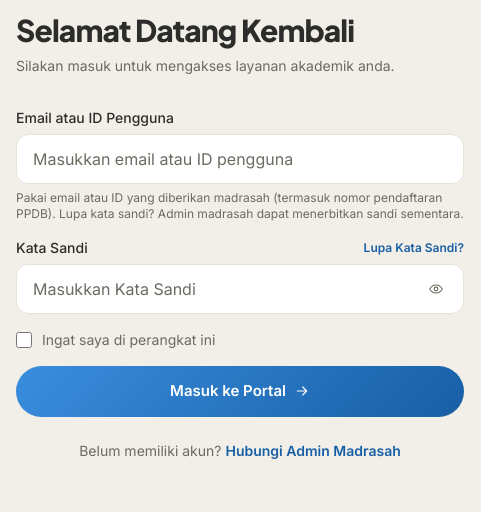
Test: masuk PPDB lewat gerbang yang sama › pesan login biasa yang ditampilkan bila keduanya menolak
Type "1234567890" into the field labelled "Email atau ID Pengguna".
click(240, 159); type("1234567890")  # box [16,134,464,184]
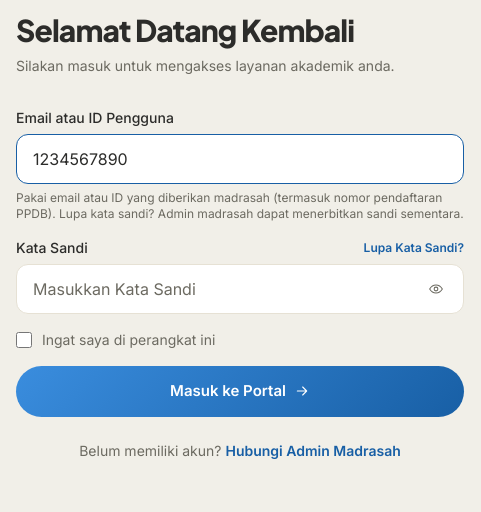
Type "salah" into the password field labelled "Kata Sandi".
click(240, 289); type("salah")  # box [16,264,464,314]
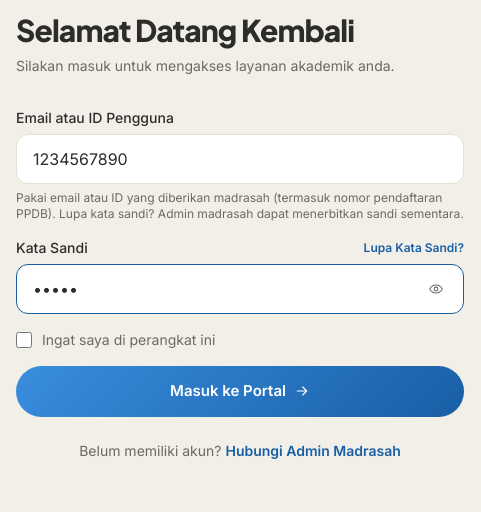
Click the button "Masuk ke Portal".
click(240, 391)  # box [16,366,464,416]
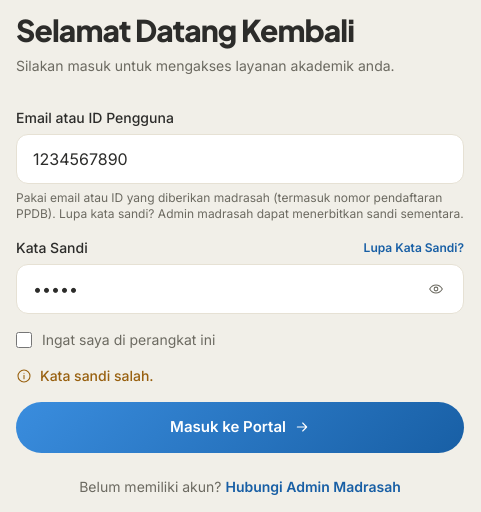
Expected: the message reads "Kata sandi salah.", [40,367,154,384]
